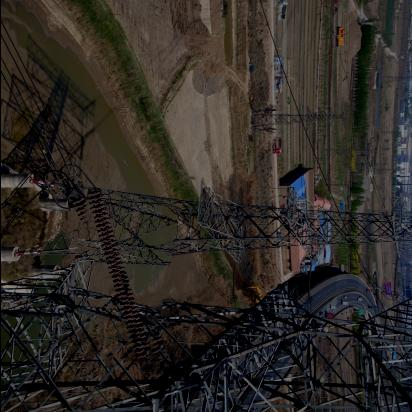insulator: (65, 192, 175, 363)
